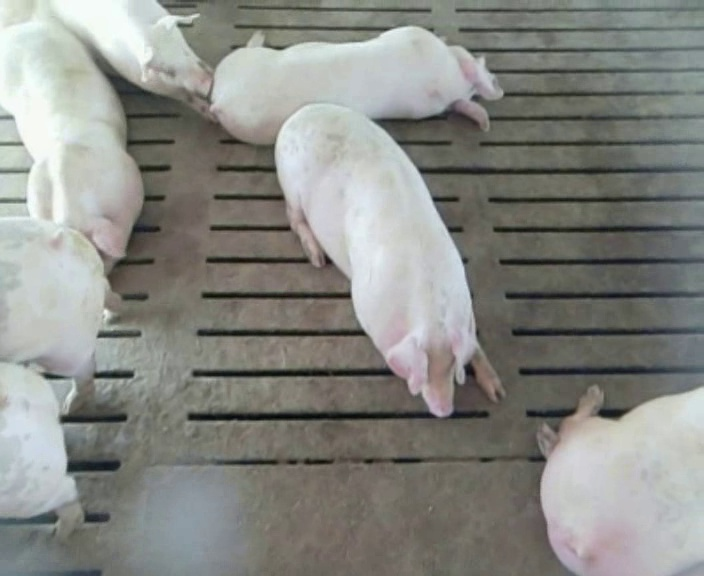pig: (275, 104, 504, 416), (211, 27, 502, 143), (537, 385, 703, 574), (49, 2, 213, 118)
